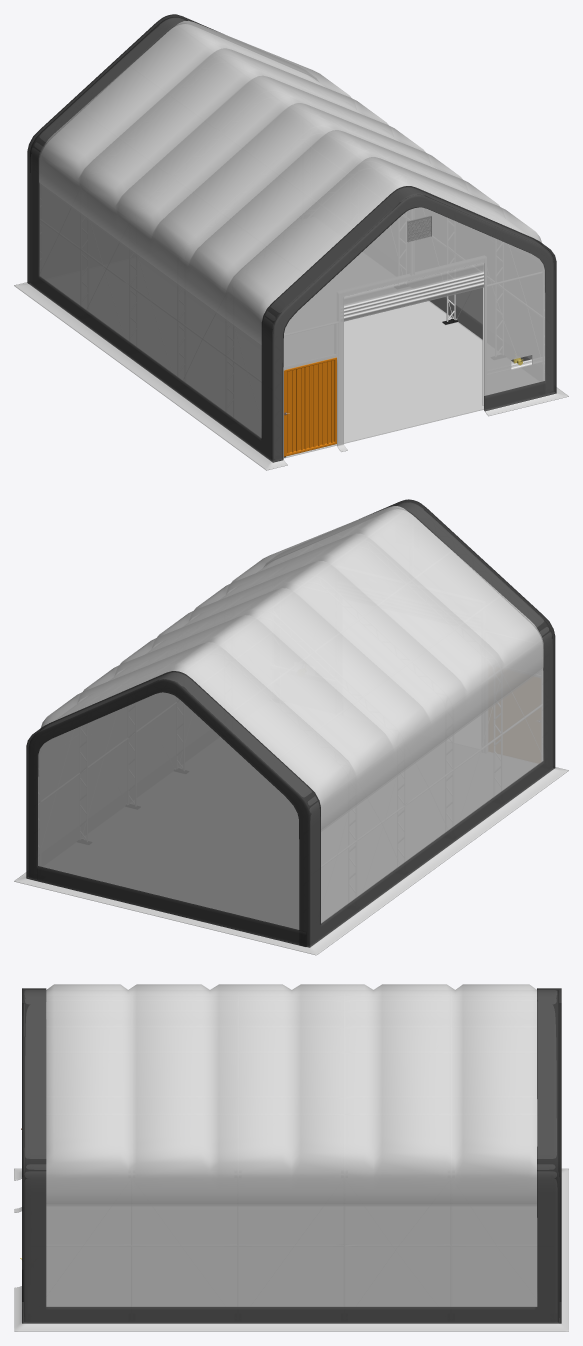
Rendered from tent.gltf.
3 views of the same model, one above another, from view 1: azimuth 30°, elevation 25°; view 2: azimuth 150°, elevation 25°; view 3: azimuth 270°, elevation 25° (orthographic). The views are drawn at different scales.
Visible parts, largest first — view 1: Plane.011, Plane.007, Plane.005, Plane.009, DR.003, Plane.008, Circle.032, Circle.034; view 2: Plane.011, Plane.007, Plane.005, Plane.008; view 3: Plane.011, Plane.007, Plane.005, Plane.008.
Boxes of the visible parts, x1,y1,x2,y2 form: Plane.011: (30,18,553,460); Plane.007: (39,20,541,345); Plane.005: (27,14,556,462); Plane.009: (284,301,514,458); DR.003: (284,357,336,456); Plane.008: (14,282,568,470); Circle.032: (344,262,483,321); Circle.034: (344,272,483,318); Plane.011: (38,502,552,944); Plane.007: (41,506,543,831); Plane.005: (26,499,555,947); Plane.008: (14,767,568,955); Plane.011: (23,990,557,1322); Plane.007: (46,984,537,1205); Plane.005: (22,988,561,1323); Plane.008: (14,1168,568,1331).
Bounding box in the file's own units: 21.62 × 16.44 × 31.22.
